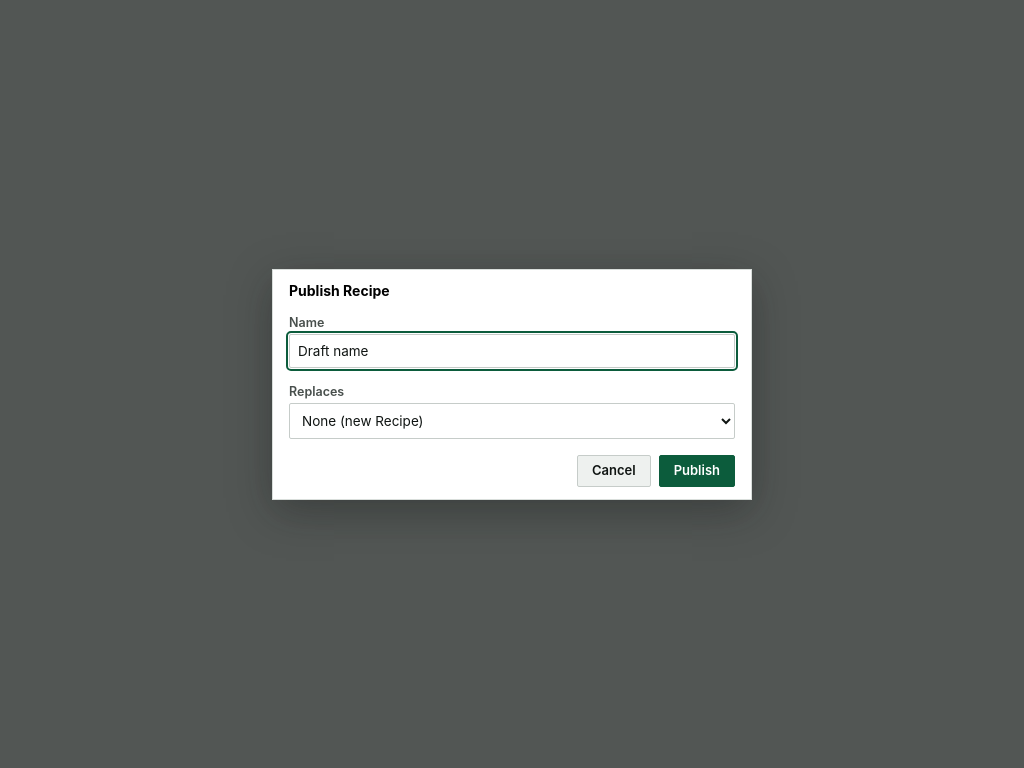
PublishRecipeModal › defaults the name to the replaced Recipe's name when one is chosen
Select "Live recipe" in the dropdown labelled "Replaces" at (512, 420), box [289, 402, 735, 438]
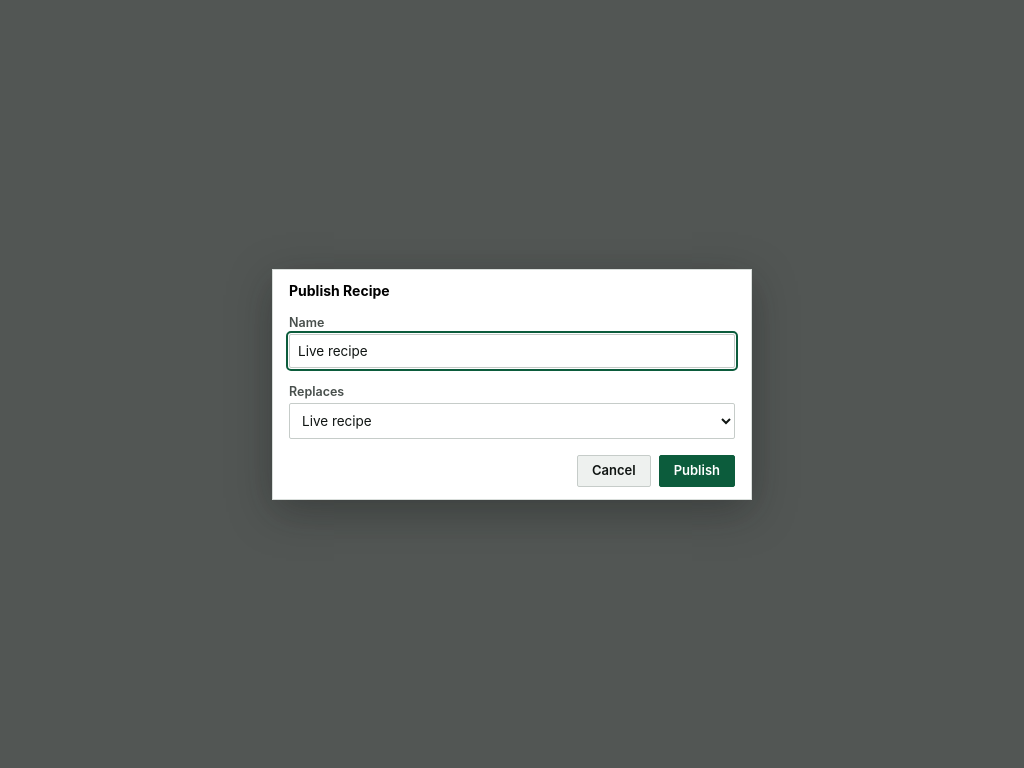
Expected: the field labelled "Name" holds "Live recipe", [289, 334, 735, 368]
